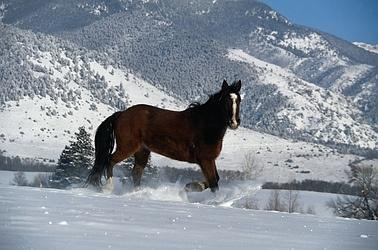horse: (87, 79, 249, 205)
